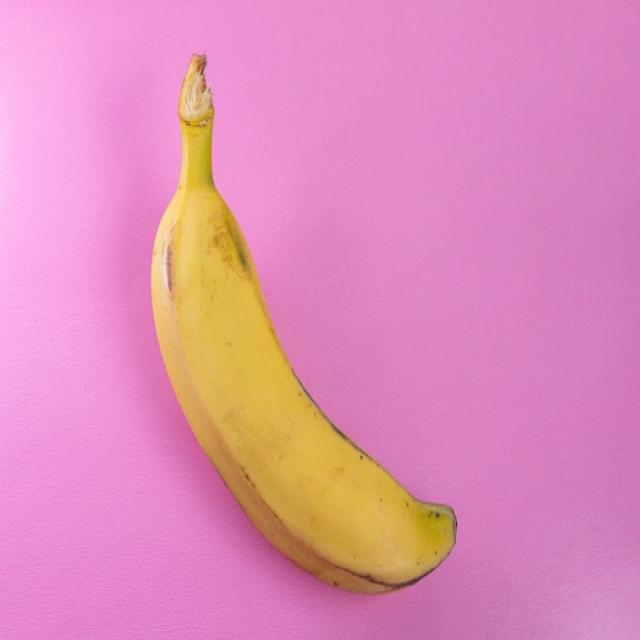Banana: (140, 54, 460, 587)
